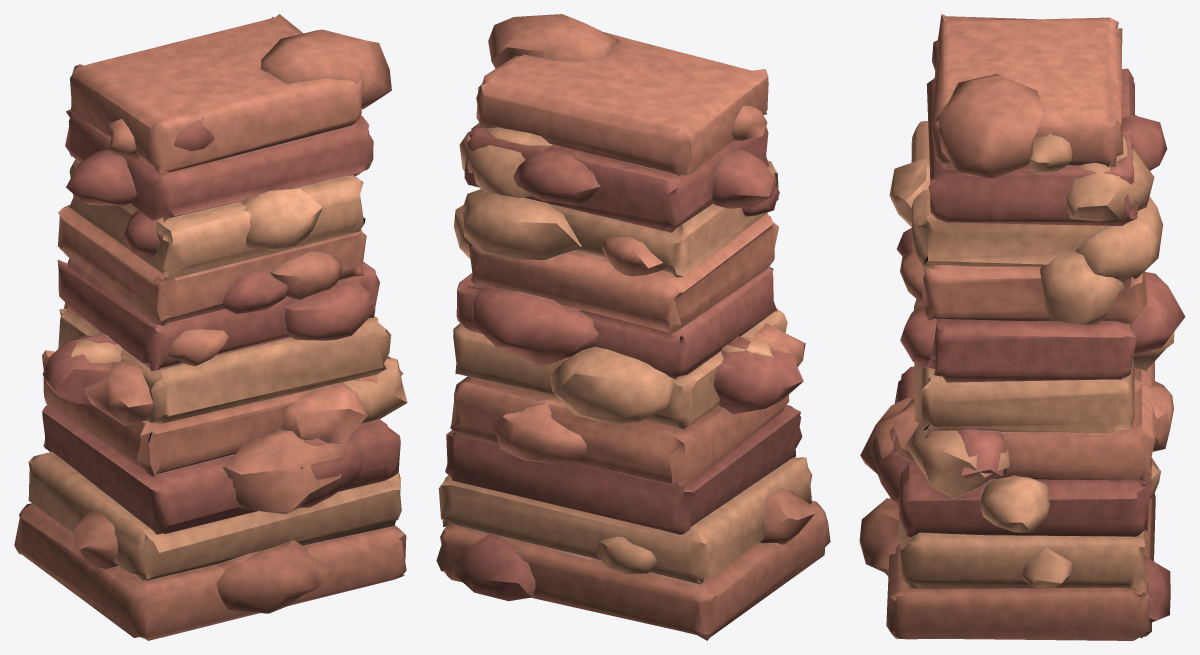
The model's file is sd_cliff.glb.
3 views of the same model, side by side, from view 1: azimuth 30°, elevation 25°; view 2: azimuth 150°, elevation 25°; view 3: azimuth 270°, elevation 25° (orthographic). The views are drawn at different scales.
Visible parts, largest first — view 1: sd_cliff; view 2: sd_cliff; view 3: sd_cliff.
Boxes of the visible parts, x1=… form: sd_cliff: x1=14, y1=14, x2=407, y2=640; sd_cliff: x1=436, y1=14, x2=830, y2=640; sd_cliff: x1=859, y1=14, x2=1185, y2=640.
Bounding box in the file's own units: 12.84 × 19.16 × 10.39.
Materials: 3 (3 with a texture image).
